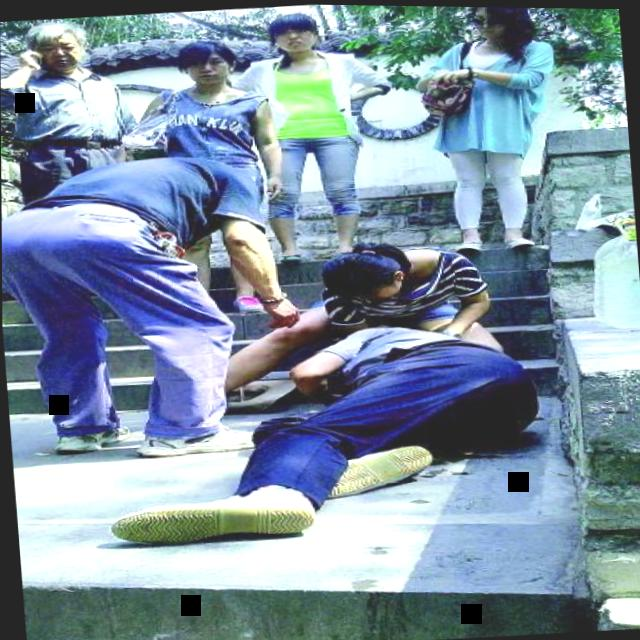Fall-Detected: (69, 295, 542, 557)
